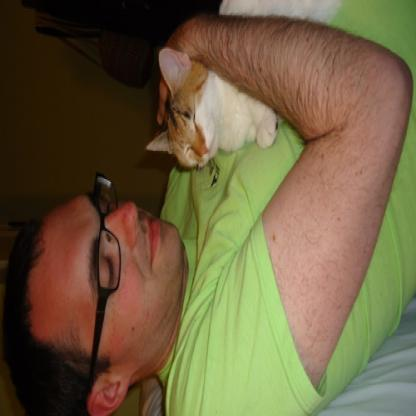Target: (152, 1, 367, 163)
